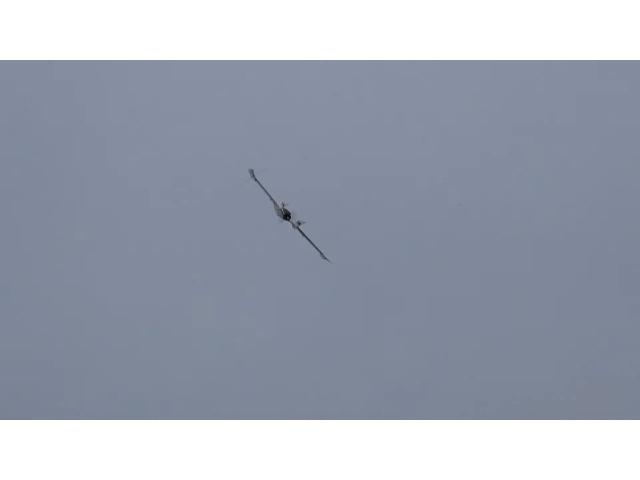Anti-Drone: (251, 170, 329, 262)
